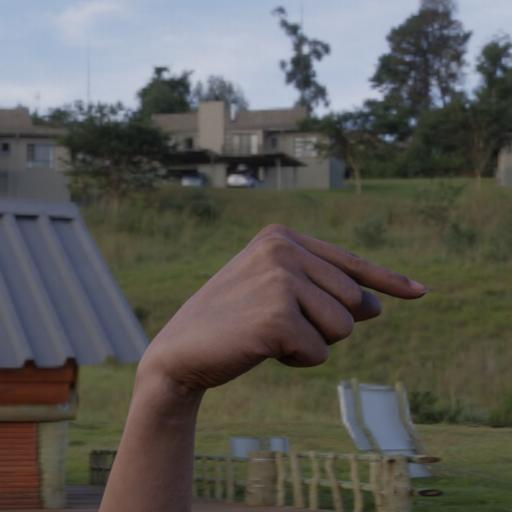G: (116, 206, 436, 484)
